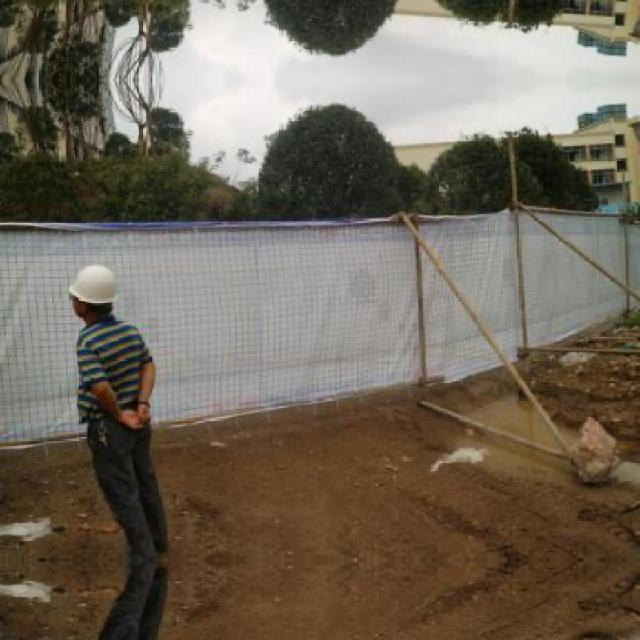helmet: (64, 260, 124, 326)
